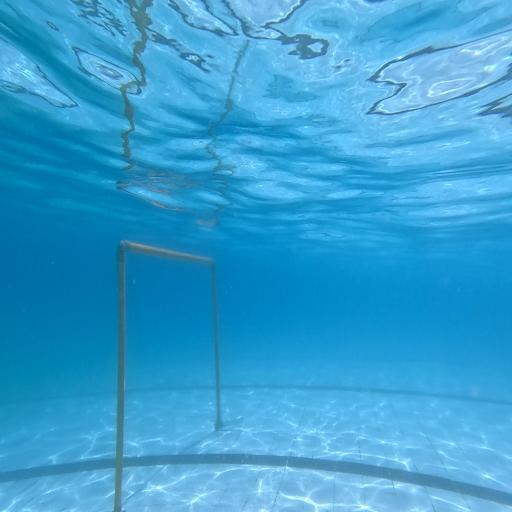gate: (115, 238, 242, 512)
